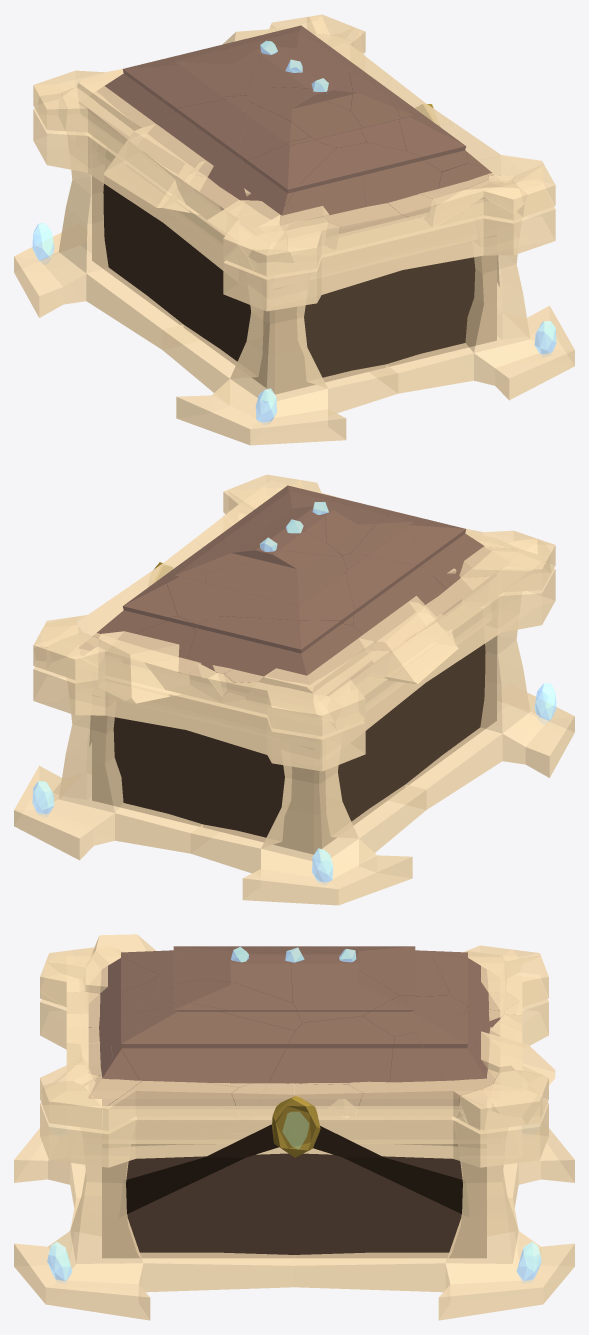
Rendered from crate.gltf.
3 renders of one model, top to bottom at view 1: azimuth 30°, elevation 25°; view 2: azimuth 150°, elevation 25°; view 3: azimuth 270°, elevation 25°, orthographic. The views are drawn at different scales.
Visible parts, largest first — view 1: ChestBase, BoxShape, Rim, RimBase.001_cell.018, RimBase.001_cell.022, RimBase.001_cell.027, BoxBand, Rim.001_cell.011, RimBase.001_cell.010, RimBase.001_cell.006, RimBase.001_cell.025, RimBase.001_cell.015 (+30 smaller); view 2: ChestBase, BoxShape, Rim, RimBase.001_cell.027, RimBase.001_cell.011, RimBase.001_cell.018, Rim.001_cell.011, Rim.001_cell.028, BoxBand, RimBase.001_cell.015, RimBase.001_cell.010, Rim.001_cell.008 (+25 smaller); view 3: ChestBase, BoxShape, Rim, RimBase.001_cell.017, RimBase.001_cell.020, Straps, BoxBand, RimBase.001_cell.026, Rim.001_cell.051, Rim.001_cell.026, RimBase.001_cell.005, RimBase.001_cell.027 (+35 smaller).
Boxes of the visible parts, box(x1,y1,x2,y2) form: ChestBase: box(14, 131, 574, 445); BoxShape: box(92, 176, 496, 394); Rim: box(33, 55, 555, 311); RimBase.001_cell.018: box(154, 95, 249, 210); RimBase.001_cell.022: box(340, 142, 441, 231); RimBase.001_cell.027: box(160, 39, 283, 114); BoxBand: box(97, 141, 478, 279); Rim.001_cell.011: box(104, 124, 205, 207); RimBase.001_cell.010: box(224, 137, 336, 219); RimBase.001_cell.006: box(280, 147, 366, 234); RimBase.001_cell.025: box(247, 87, 366, 147); RimBase.001_cell.015: box(86, 66, 166, 153); ChestBase: box(14, 591, 574, 905); BoxShape: box(92, 636, 496, 854); Rim: box(33, 515, 555, 771); RimBase.001_cell.027: box(205, 550, 354, 625); RimBase.001_cell.011: box(184, 616, 301, 682); RimBase.001_cell.018: box(342, 553, 456, 642); Rim.001_cell.011: box(359, 601, 458, 684); Rim.001_cell.028: box(98, 631, 179, 703); BoxBand: box(110, 603, 491, 739); RimBase.001_cell.015: box(289, 620, 373, 695); RimBase.001_cell.010: box(387, 515, 484, 608); Rim.001_cell.008: box(221, 682, 336, 736); ChestBase: box(14, 1116, 574, 1320); BoxShape: box(102, 1144, 486, 1257); Rim: box(40, 999, 548, 1167); RimBase.001_cell.017: box(111, 1002, 294, 1108); RimBase.001_cell.020: box(259, 1016, 393, 1105); Straps: box(119, 1124, 469, 1217); BoxBand: box(131, 1116, 457, 1143); RimBase.001_cell.026: box(290, 949, 399, 1022); Rim.001_cell.051: box(102, 1081, 245, 1130); Rim.001_cell.026: box(346, 1069, 498, 1117); RimBase.001_cell.005: box(134, 979, 302, 1031); RimBase.001_cell.027: box(298, 946, 450, 996).
Size of the model in its own units: 3.53 by 2.38 by 4.37.
